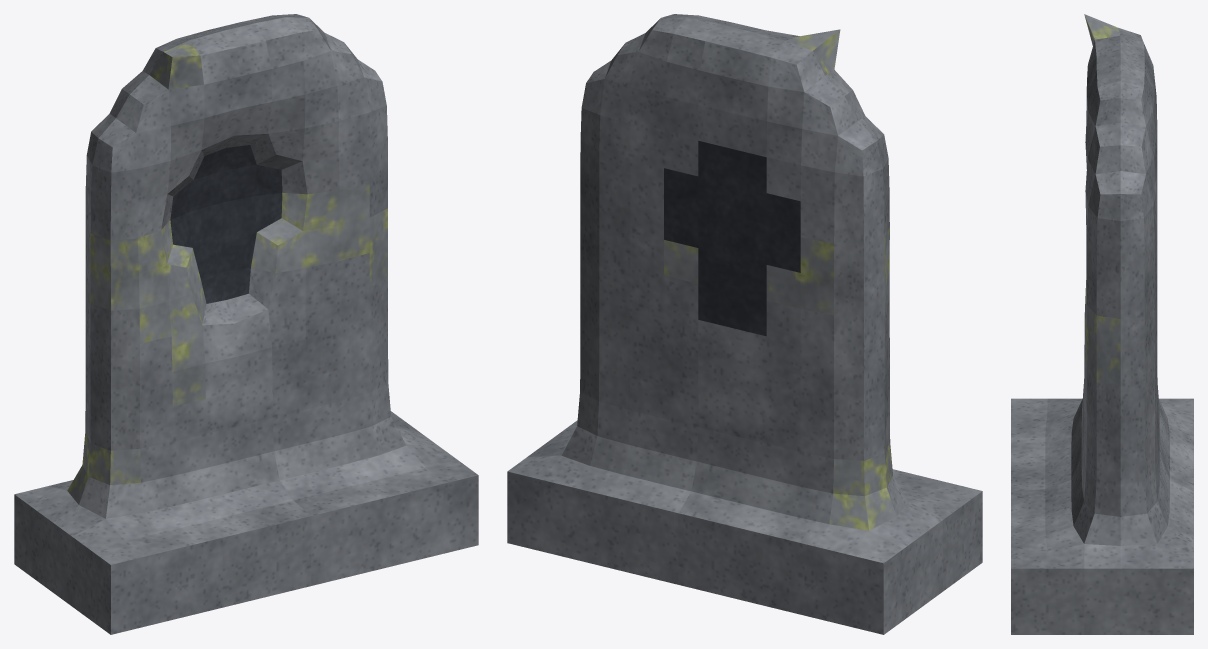
The model's file is landmark_grave_stone.glb.
3 renders of one model, left to right at view 1: azimuth 30°, elevation 25°; view 2: azimuth 150°, elevation 25°; view 3: azimuth 270°, elevation 25°, orthographic. The views are drawn at different scales.
Parts seen in each view (by area): view 1: wilds_landmark_grave_stone; view 2: wilds_landmark_grave_stone; view 3: wilds_landmark_grave_stone.
Boxes of the visible parts, x1,y1,x2,y2 form: wilds_landmark_grave_stone: (14, 14, 478, 634); wilds_landmark_grave_stone: (507, 14, 982, 634); wilds_landmark_grave_stone: (1011, 14, 1193, 634).
Bounding box in the file's own units: 0.6875 × 0.9375 × 0.3125.
1 material, 1 textured.
